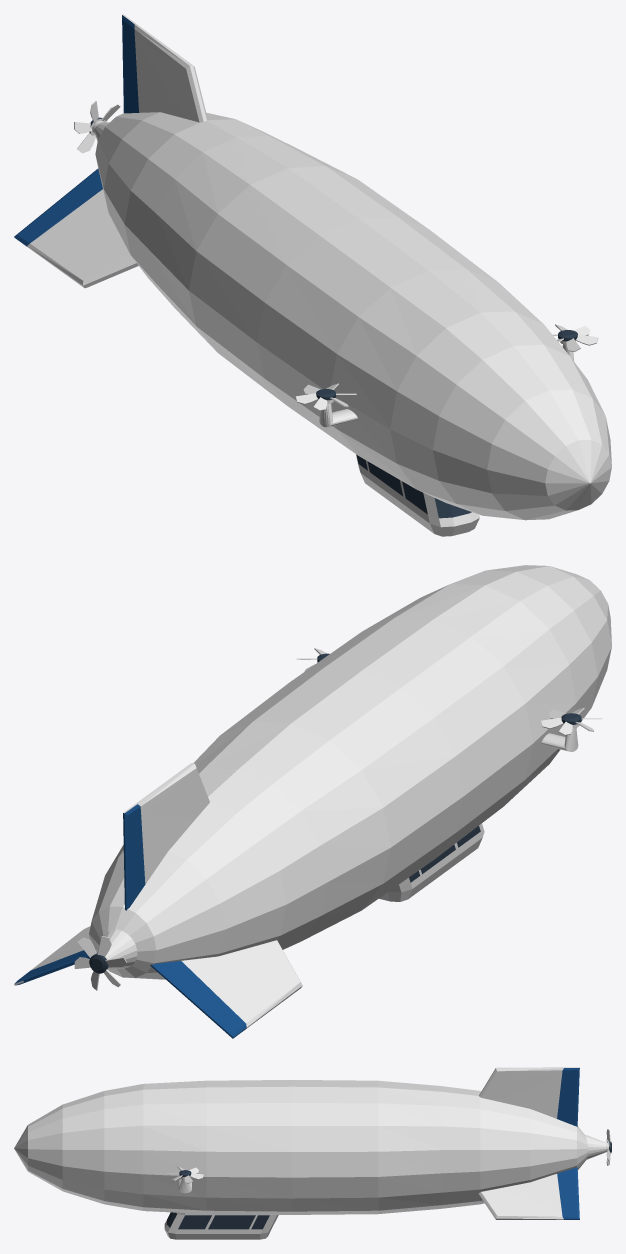
Rendered from 1390 Airship.obj.
The picture shows the model from 3 angles, top to bottom: view 1: azimuth 30°, elevation 25°; view 2: azimuth 150°, elevation 25°; view 3: azimuth 270°, elevation 25°; orthographic projection. The views are drawn at different scales.
Visible parts, largest first — view 1: Airship; view 2: Airship; view 3: Airship.
Boxes of the visible parts, x1,y1,x2,y2 form: Airship: (14, 14, 611, 536); Airship: (14, 565, 611, 1038); Airship: (14, 1067, 611, 1239).
Size of the model in its own units: 61.02 by 55.12 by 177.
Materials: 1 (1 with a texture image).
